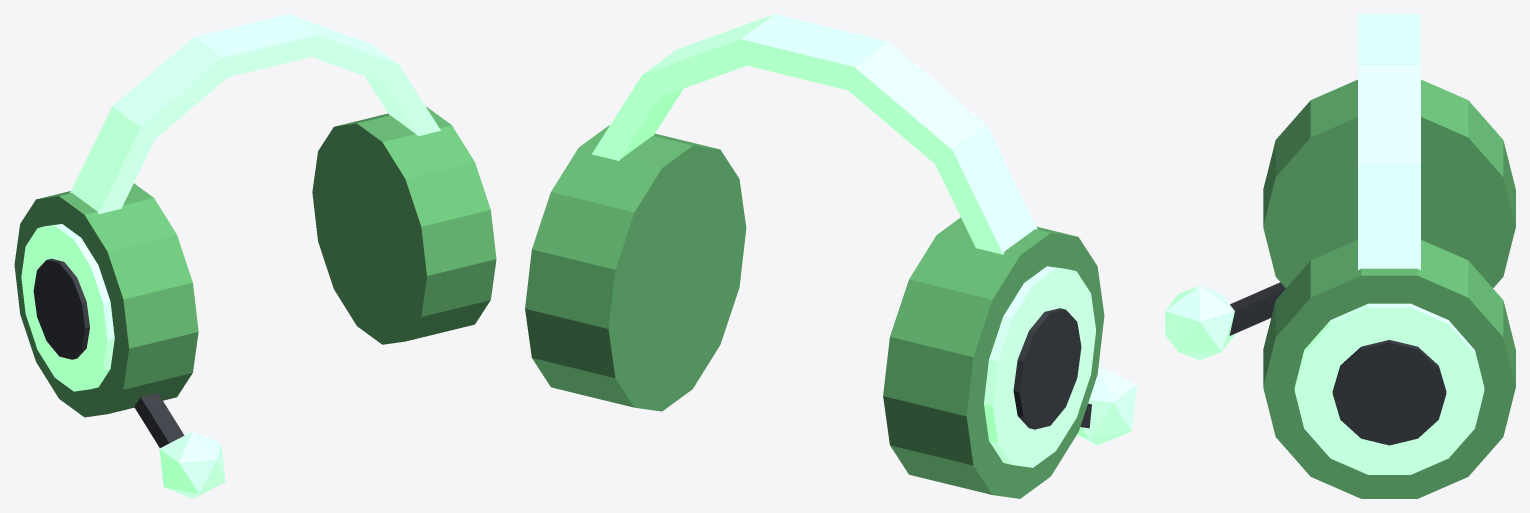
Rendered from headphones_m0_2.glb.
3 renders of one model, left to right at view 1: azimuth 30°, elevation 25°; view 2: azimuth 150°, elevation 25°; view 3: azimuth 270°, elevation 25°, orthographic. The views are drawn at different scales.
Parts seen in each view (by area): view 1: headphones_m0_2_mesh; view 2: headphones_m0_2_mesh; view 3: headphones_m0_2_mesh.
Boxes of the visible parts, left/top/right/bottom form: headphones_m0_2_mesh: left=14, top=14, right=496, bottom=498; headphones_m0_2_mesh: left=525, top=14, right=1136, bottom=498; headphones_m0_2_mesh: left=1165, top=14, right=1515, bottom=498.
Size of the model in its own units: 0.79 by 0.7 by 0.5553.
